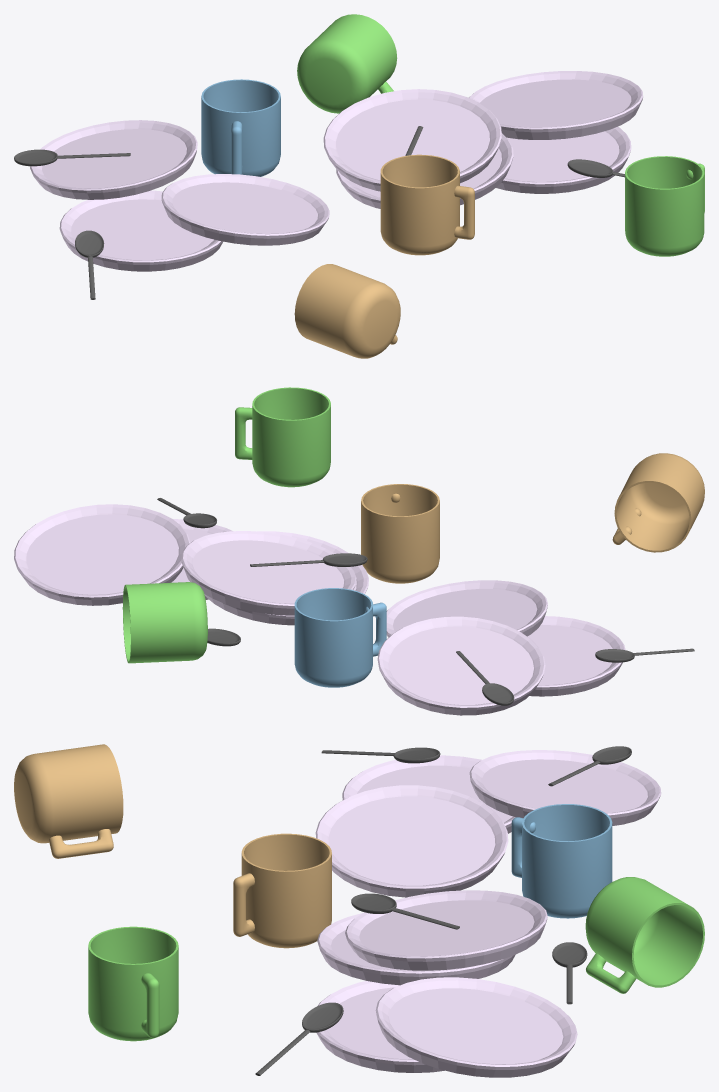
The model's file is dishes_05.glb.
3 views of the same model, one above another, from view 1: azimuth 30°, elevation 25°; view 2: azimuth 150°, elevation 25°; view 3: azimuth 270°, elevation 25° (orthographic). The views are drawn at different scales.
Parts seen in each view (by area): view 1: Cylinder.120; view 2: Cylinder.120; view 3: Cylinder.120.
Part boxes in pixels (<box>): Cylinder.120: <box>14,14,704,358</box>; Cylinder.120: <box>14,387,704,715</box>; Cylinder.120: <box>14,744,704,1077</box>.
Size of the model in its own units: 0.6172 by 0.0784 by 0.5335.
